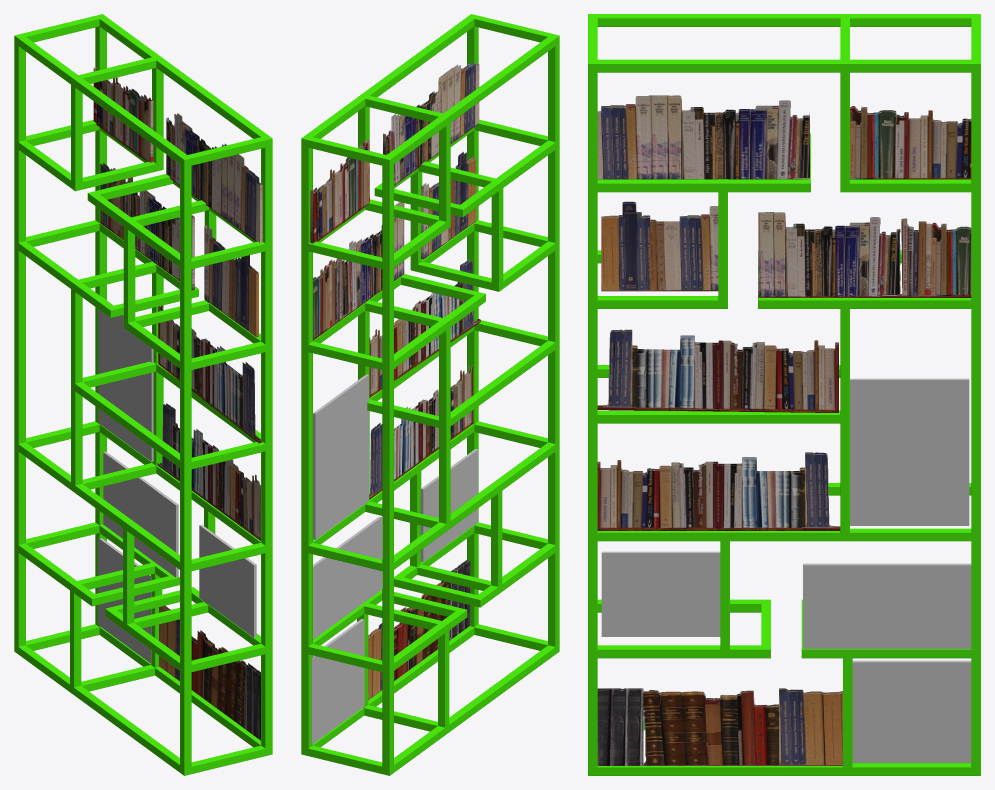
Rendered from bibliothèque.fbx.
The picture shows the model from 3 angles, left to right: view 1: azimuth 30°, elevation 25°; view 2: azimuth 150°, elevation 25°; view 3: azimuth 270°, elevation 25°; orthographic projection. The views are drawn at different scales.
Visible parts, largest first — view 1: bookshelf.003; view 2: bookshelf.003; view 3: bookshelf.003.
Boxes of the visible parts, x1,y1,x2,y2 form: bookshelf.003: [14, 14, 272, 775]; bookshelf.003: [301, 14, 559, 775]; bookshelf.003: [588, 14, 980, 775].
Bounding box in the file's own units: 160 × 534 × 1069.
